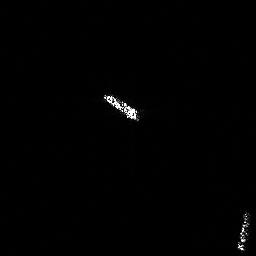ship: (101, 93, 140, 122), (237, 209, 250, 253)
